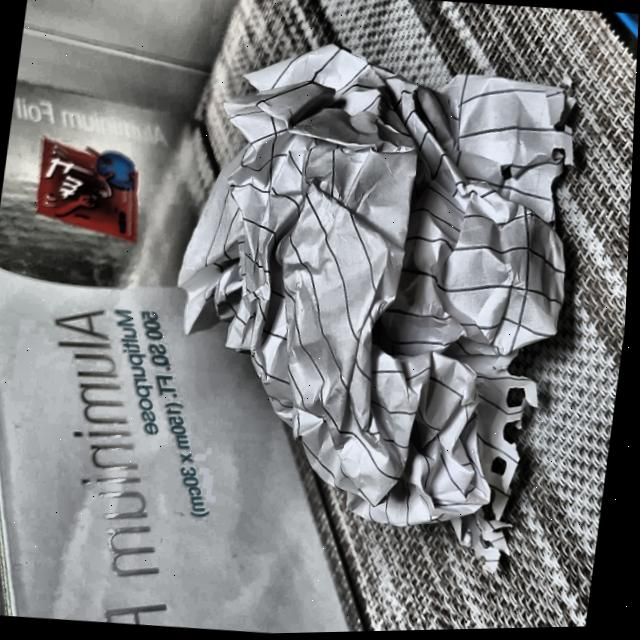paper: (140, 32, 597, 567)
